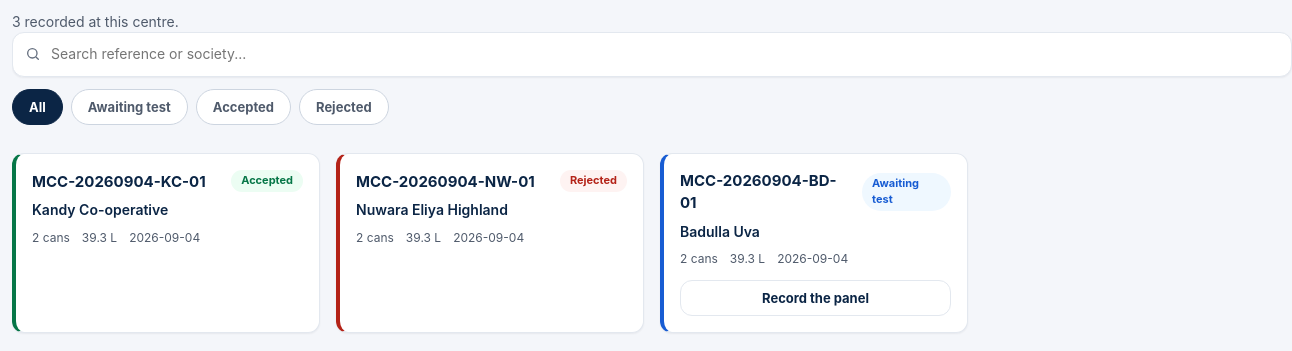
reviewing deliveries › returns to everything when the filter is cleared
What coordinates should you click on to do the following:
click the button "Accepted"
I would click on:
 (243, 107)
Its box is [196,89,291,125].
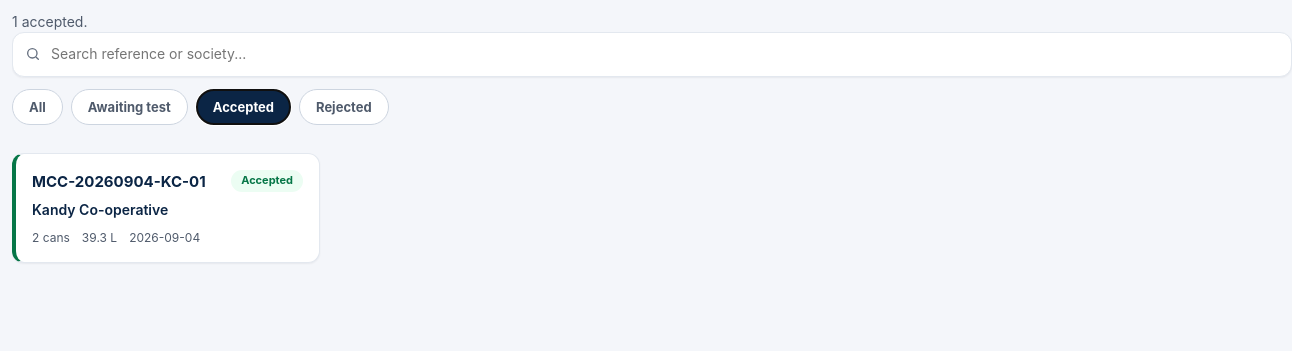
Expected: the text "MCC-20260904-KC-01" is shown, [32,170,206,192]
What coordinates should you click on to do the following:
click the button "All"
I would click on:
 (37, 107)
Its box is [12,89,63,125].
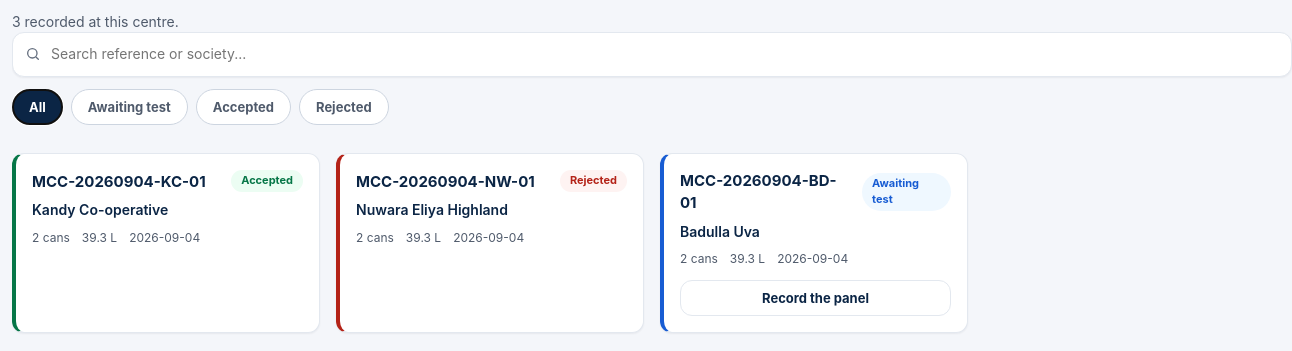
Now the text "MCC-20260904-NW-01" is shown, box [356,170,535,192]
